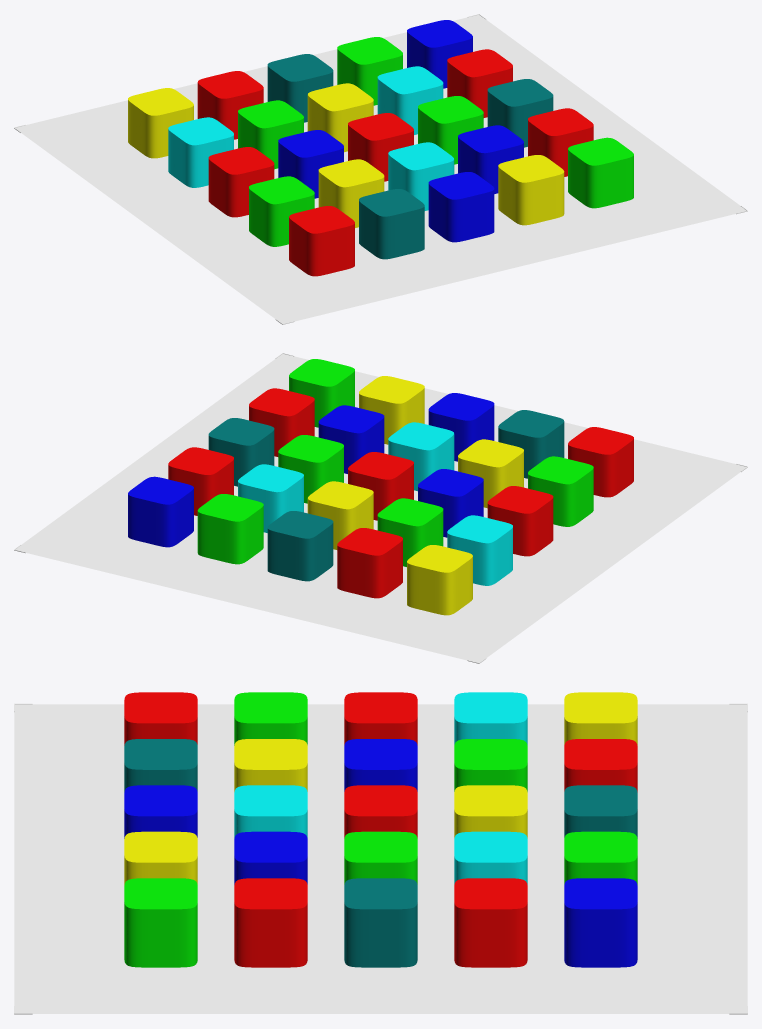
File: location_placeholder.fbx
3 renders of one model, top to bottom at view 1: azimuth 30°, elevation 25°; view 2: azimuth 150°, elevation 25°; view 3: azimuth 270°, elevation 25°, orthographic. The views are drawn at different scales.
Visible parts, largest first — view 1: Floor, Box021, Box022, Box023, Box024, Box025, Box005, Box010, Box015, Box020, Box016, Box006 (+14 smaller); view 2: Floor, Box011, Box012, Box013, Box014, Box015, Box005, Box020, Box025, Box010, Box006, Box016 (+14 smaller); view 3: Floor, Box013, Box023, Box003, Box008, Box018, Box012, Box022, Box002, Box007, Box017, Box001 (+14 smaller).
Boxes of the visible parts, box(x1,y1,x2,y2) form: Floor: box(15, 15, 746, 323); Box021: box(428, 172, 494, 242); Box022: box(498, 155, 564, 225); Box023: box(568, 137, 633, 208); Box024: box(359, 189, 424, 259); Box025: box(289, 206, 354, 276); Box005: box(208, 147, 274, 217); Box010: box(168, 117, 233, 187); Box015: box(128, 88, 193, 158); Box020: box(249, 176, 314, 246); Box016: box(388, 142, 454, 210); Box006: box(307, 83, 373, 152); Floor: box(15, 354, 746, 662); Box011: box(267, 511, 333, 581); Box012: box(197, 494, 263, 564); Box013: box(128, 476, 193, 547); Box014: box(337, 528, 402, 598); Box015: box(407, 545, 472, 615); Box005: box(487, 486, 553, 556); Box020: box(528, 456, 593, 526); Box025: box(568, 427, 633, 497); Box010: box(447, 515, 512, 585); Box006: box(307, 481, 373, 549); Box016: box(388, 422, 454, 491); Floor: box(14, 704, 747, 1013); Box013: box(564, 878, 637, 967); Box023: box(124, 878, 197, 967); Box003: box(344, 878, 417, 967); Box008: box(454, 878, 527, 967); Box018: box(234, 878, 307, 967); Box012: box(564, 831, 637, 885); Box022: box(124, 831, 197, 885); Box002: box(344, 831, 417, 884); Box007: box(454, 831, 527, 884); Box017: box(234, 831, 307, 884); Box001: box(344, 785, 417, 838).
Bounding box in the file's own units: 100 × 100 × 8.84.
